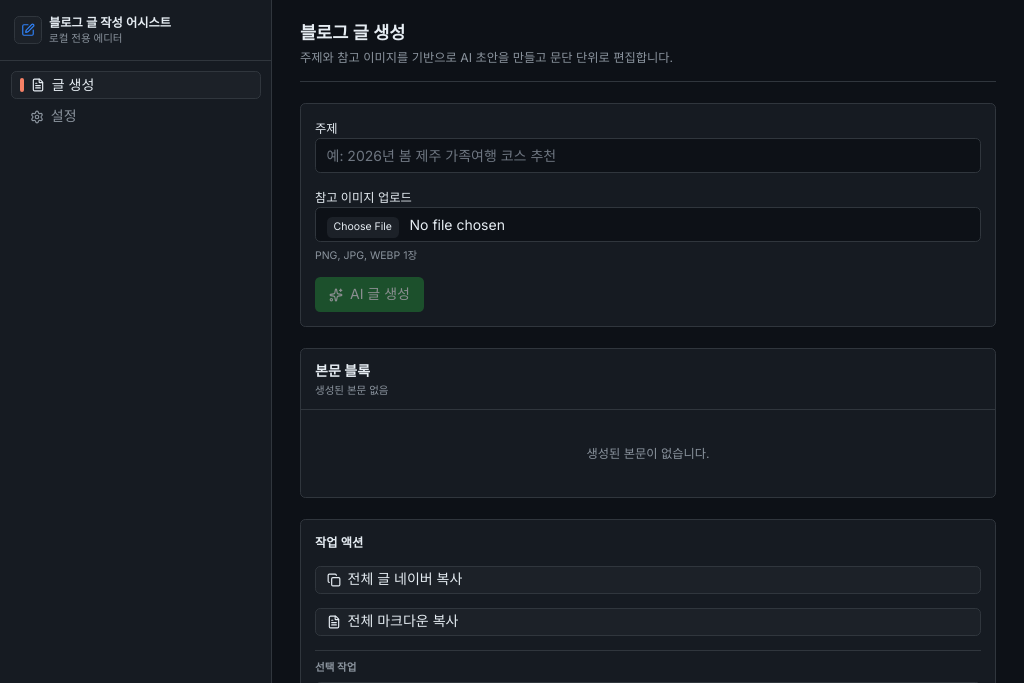
App manual save integration › shows save error message when save fails
Type "서울 전시 추천" into the field labelled "주제" at (648, 155), box [315, 138, 981, 173]
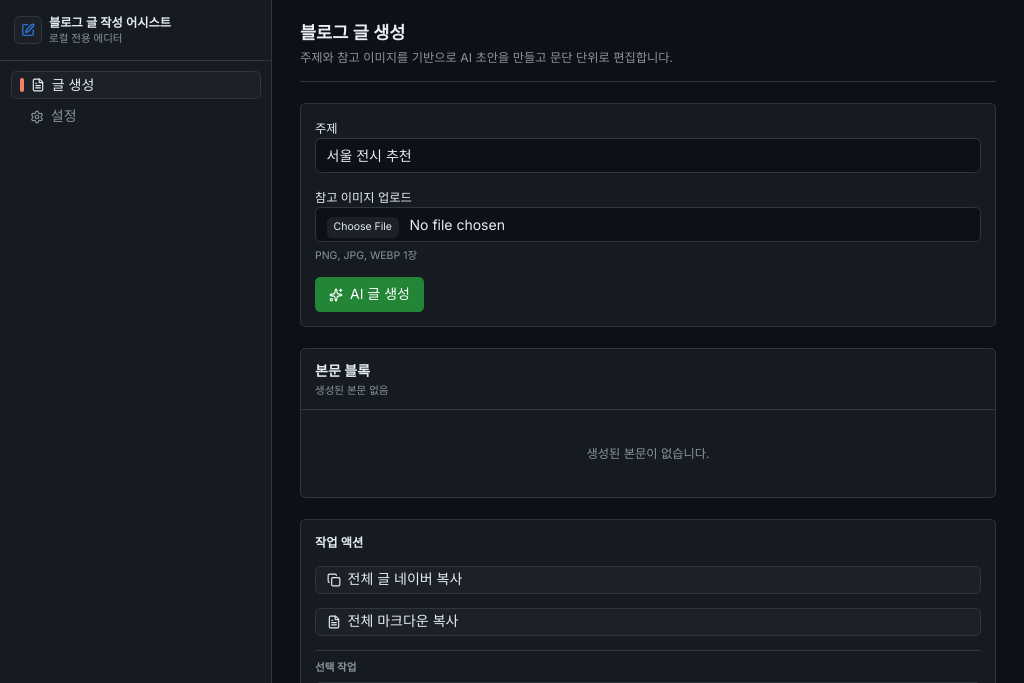
Click the button "AI 글 생성" at (369, 295), box [315, 277, 424, 312]
(page scrolled)
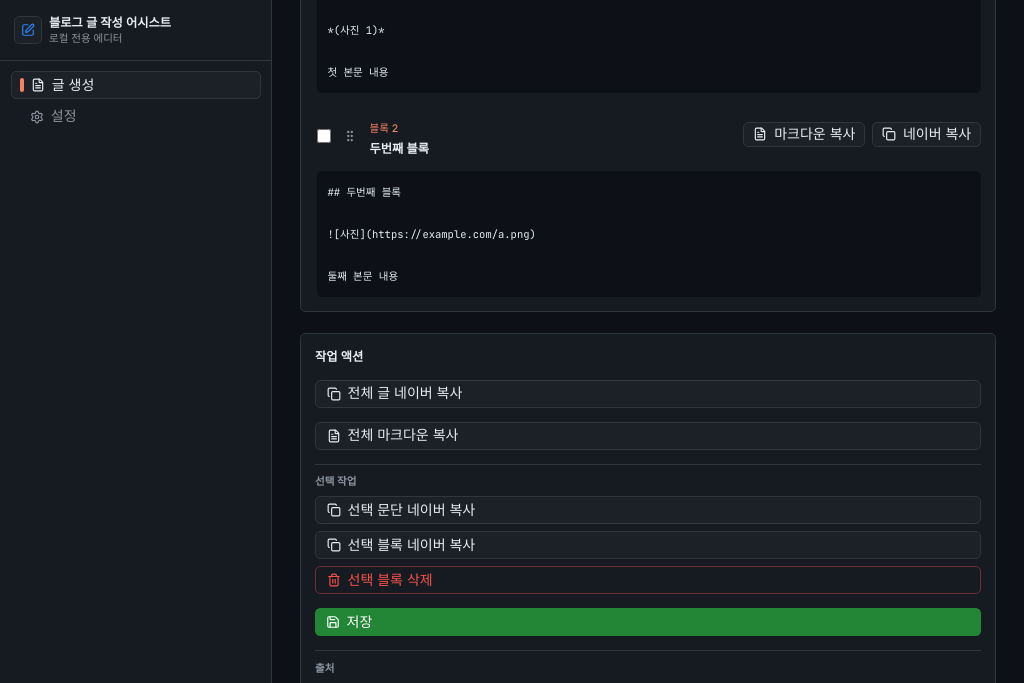
Click the button "저장" at (332, 622), box [315, 608, 981, 636]
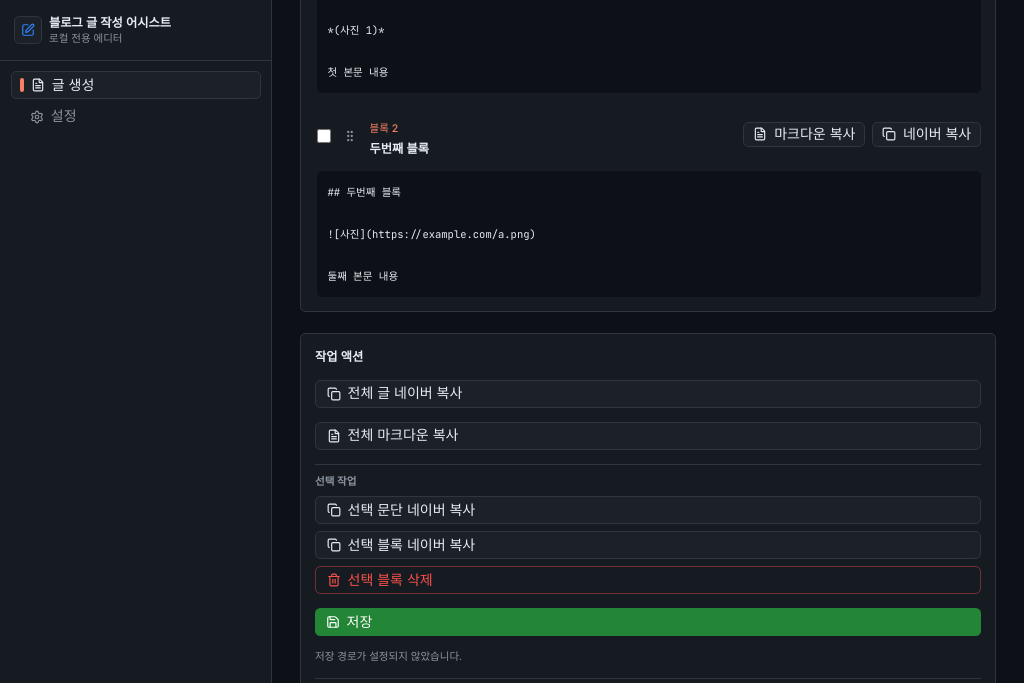
Result: the text "저장 경로가 설정되지 않았습니다." is shown at [315, 650, 462, 663]
